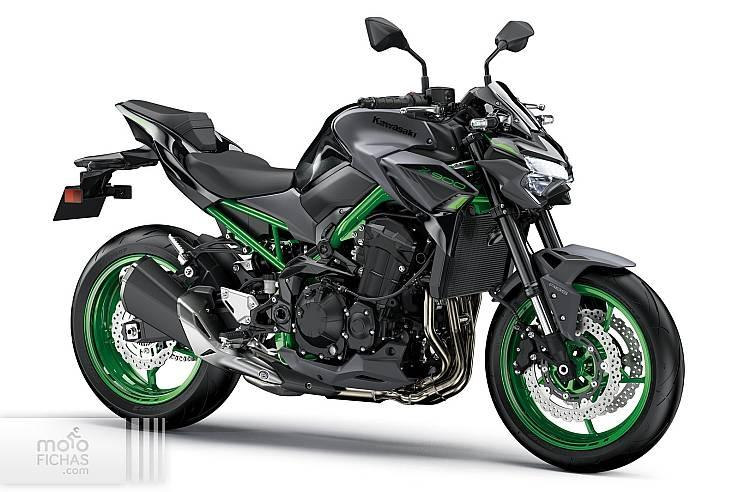engine-chasis: (219, 185, 442, 390), (233, 252, 280, 284), (281, 242, 316, 264)
exhaust: (118, 255, 474, 406)
frontside: (380, 82, 637, 383), (300, 165, 378, 244)
handlebar: (357, 17, 513, 147), (483, 21, 534, 87), (535, 115, 554, 126), (522, 103, 546, 111)
motorbike: (54, 17, 682, 470), (493, 21, 531, 52)
rearside: (53, 103, 318, 289), (121, 318, 174, 343), (214, 130, 245, 152)
seat: (184, 150, 295, 198), (119, 100, 217, 151)
tank: (294, 103, 472, 214)
watermark: (2, 417, 165, 486)
wheel: (485, 267, 683, 473), (71, 225, 241, 432), (238, 246, 316, 292), (489, 291, 526, 334)
